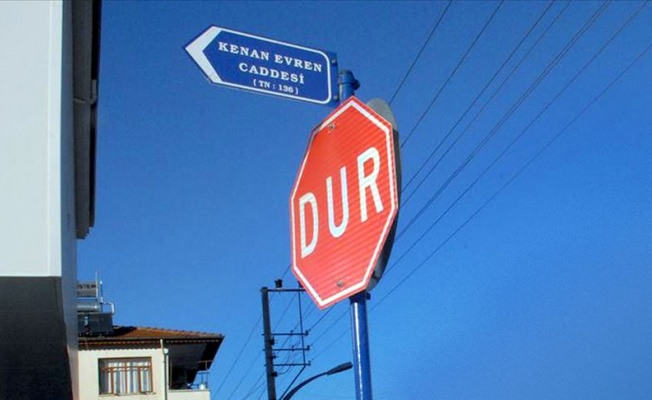dur: (286, 99, 406, 320)
